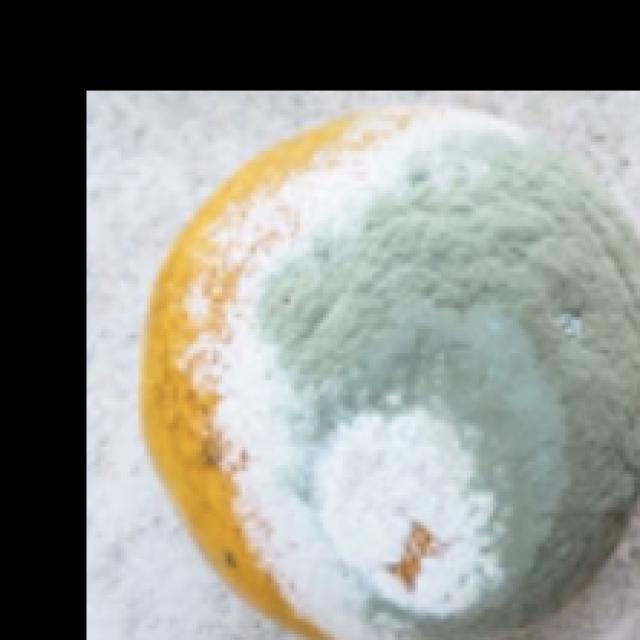sangat_busuk: (139, 108, 640, 640)
